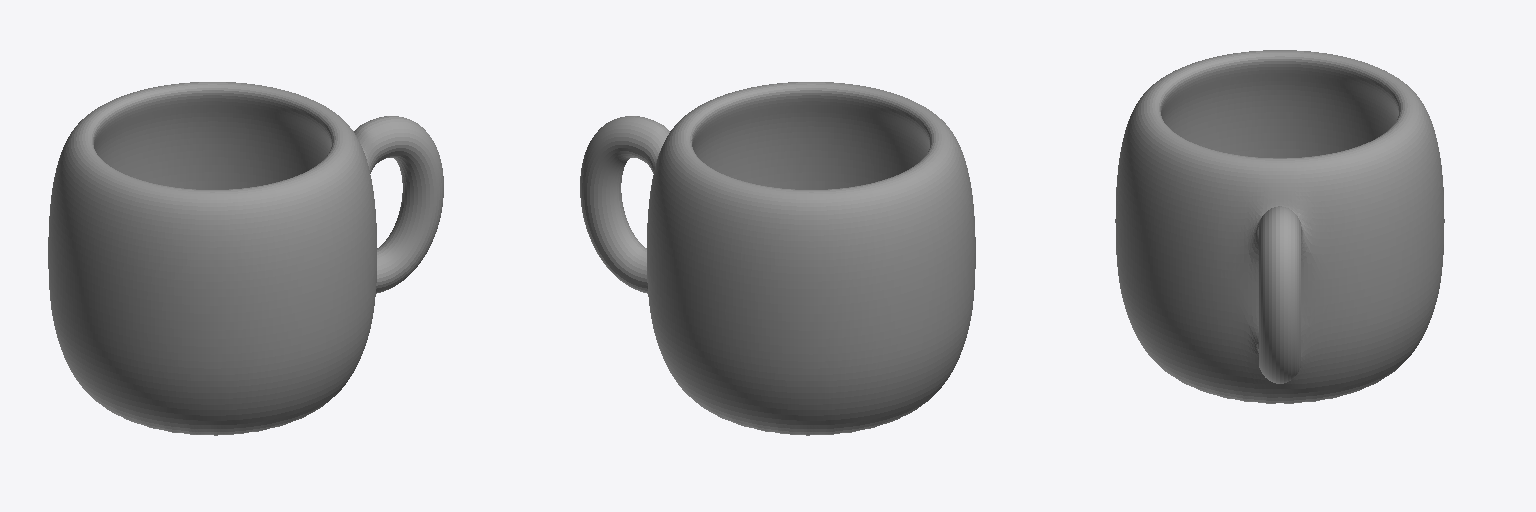
The model's file is cup.obj.
The picture shows the model from 3 angles: view 1: azimuth 30°, elevation 25°; view 2: azimuth 150°, elevation 25°; view 3: azimuth 270°, elevation 25°; orthographic projection.
Visible parts, largest first — view 1: Cylinder; view 2: Cylinder; view 3: Cylinder.
Boxes of the visible parts, x1=… form: Cylinder: x1=48, y1=82, x2=443, y2=435; Cylinder: x1=580, y1=82, x2=975, y2=435; Cylinder: x1=1115, y1=50, x2=1444, y2=403.
Size of the model in its own units: 0.5476 by 0.3647 by 0.4201.